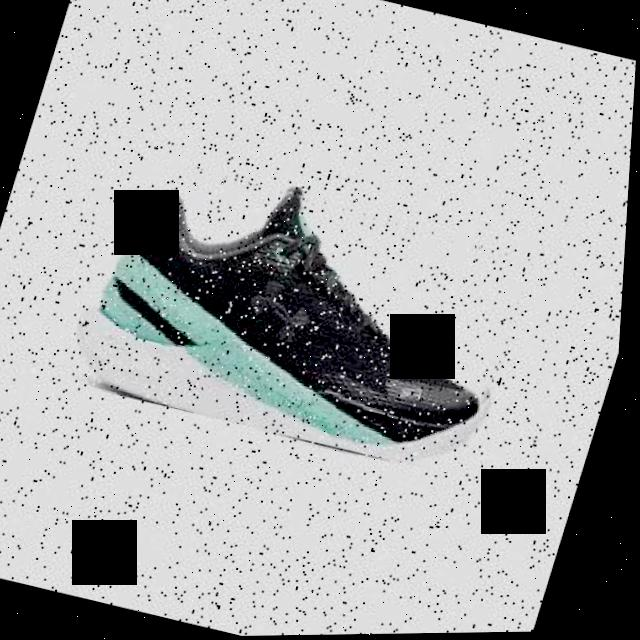shoe: (59, 143, 548, 485)
